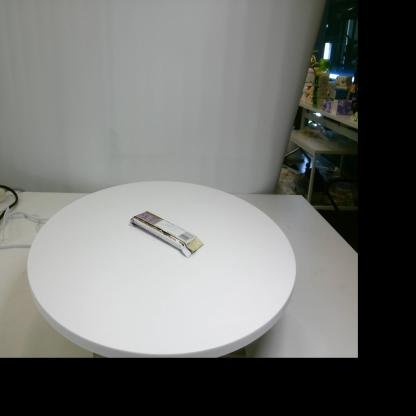Chocolate: (130, 211, 204, 258)
